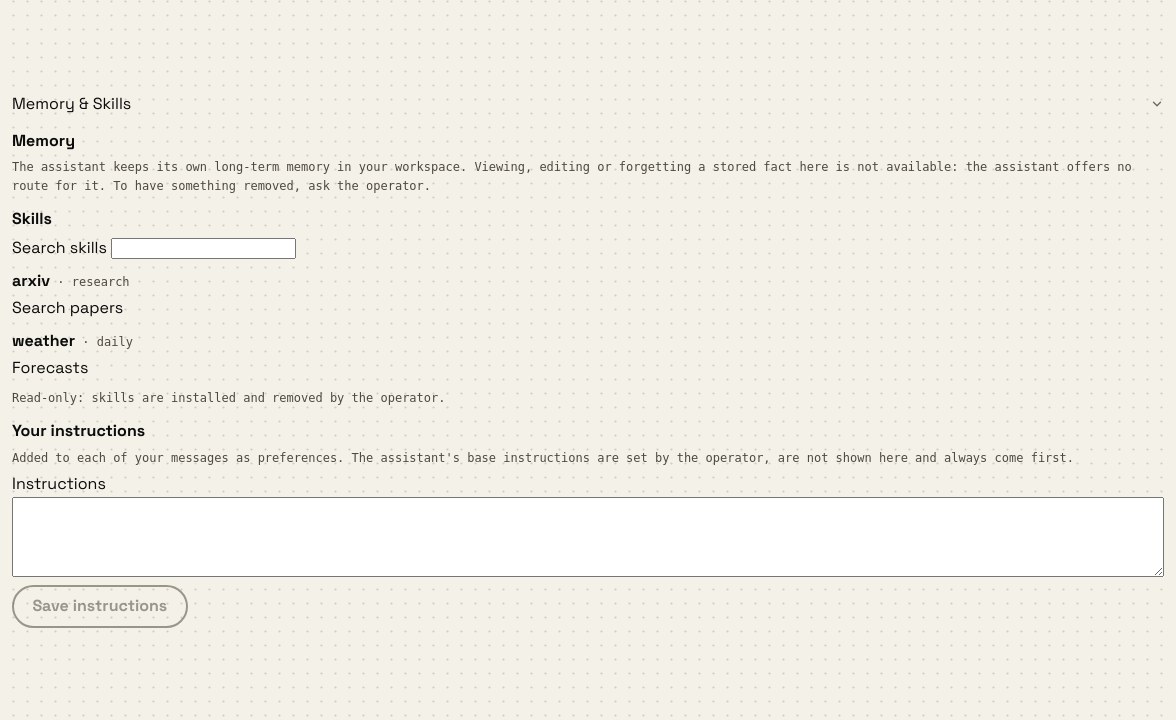
Test: Memory & Skills › reads nothing until opened, then searches skills and saves the caller's instructions
This screenshot has width=1176, height=720.
Expected: the text "arxiv" is shown, [12,270,50,291]
Type "forecast" into the search field labelled "Search skills".
click(204, 249); type("forecast")  # box [111,238,296,259]
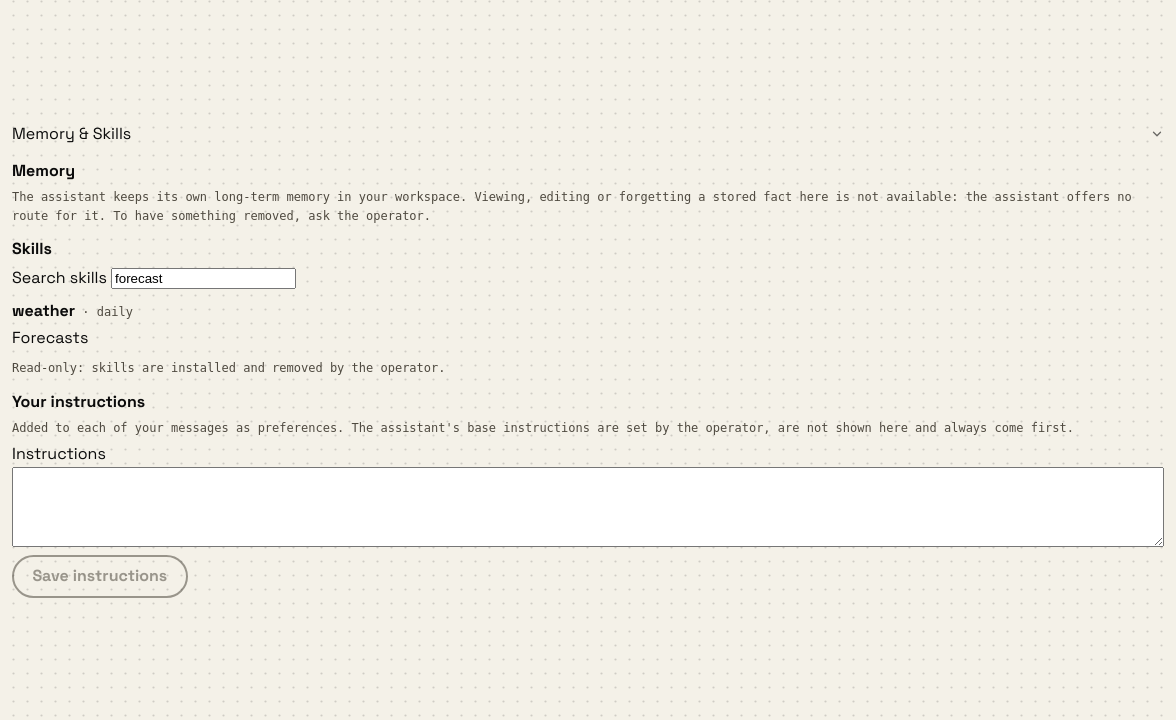
Expected: the text "weather" is shown, [12,300,75,321]
Now the text "arxiv" is gone
Type "  Be brief.  " into the text box labelled "Instructions".
click(588, 507); type("  Be brief.  ")  # box [12,467,1164,547]
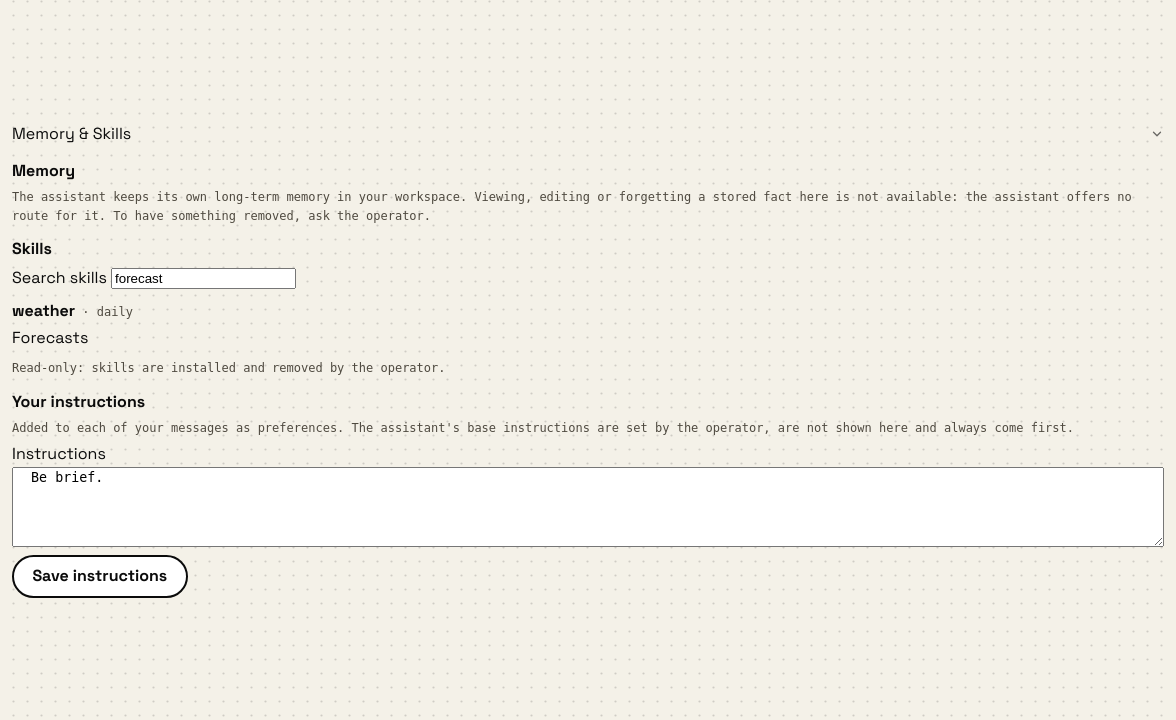
Click the button "Save instructions".
click(100, 577)  # box [12,555,188,598]
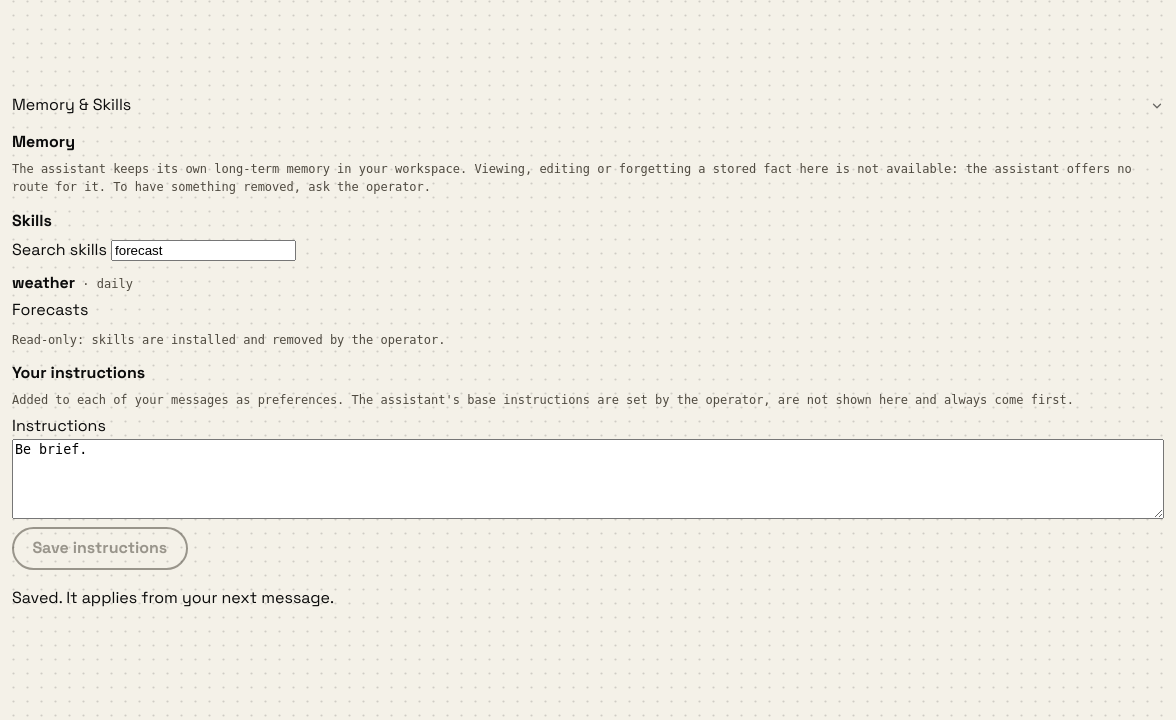
Now the message shows "applies from your next message", box [12,587,334,608]
